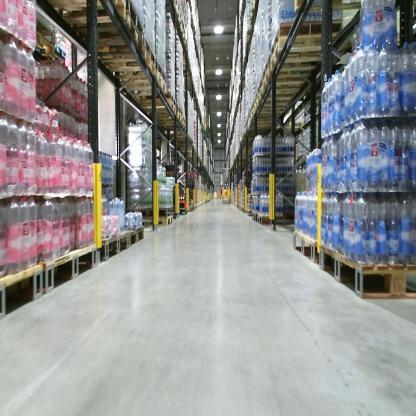pallets: (43, 0, 186, 142), (246, 19, 346, 137), (293, 231, 415, 302), (0, 237, 101, 314), (98, 226, 144, 262)
